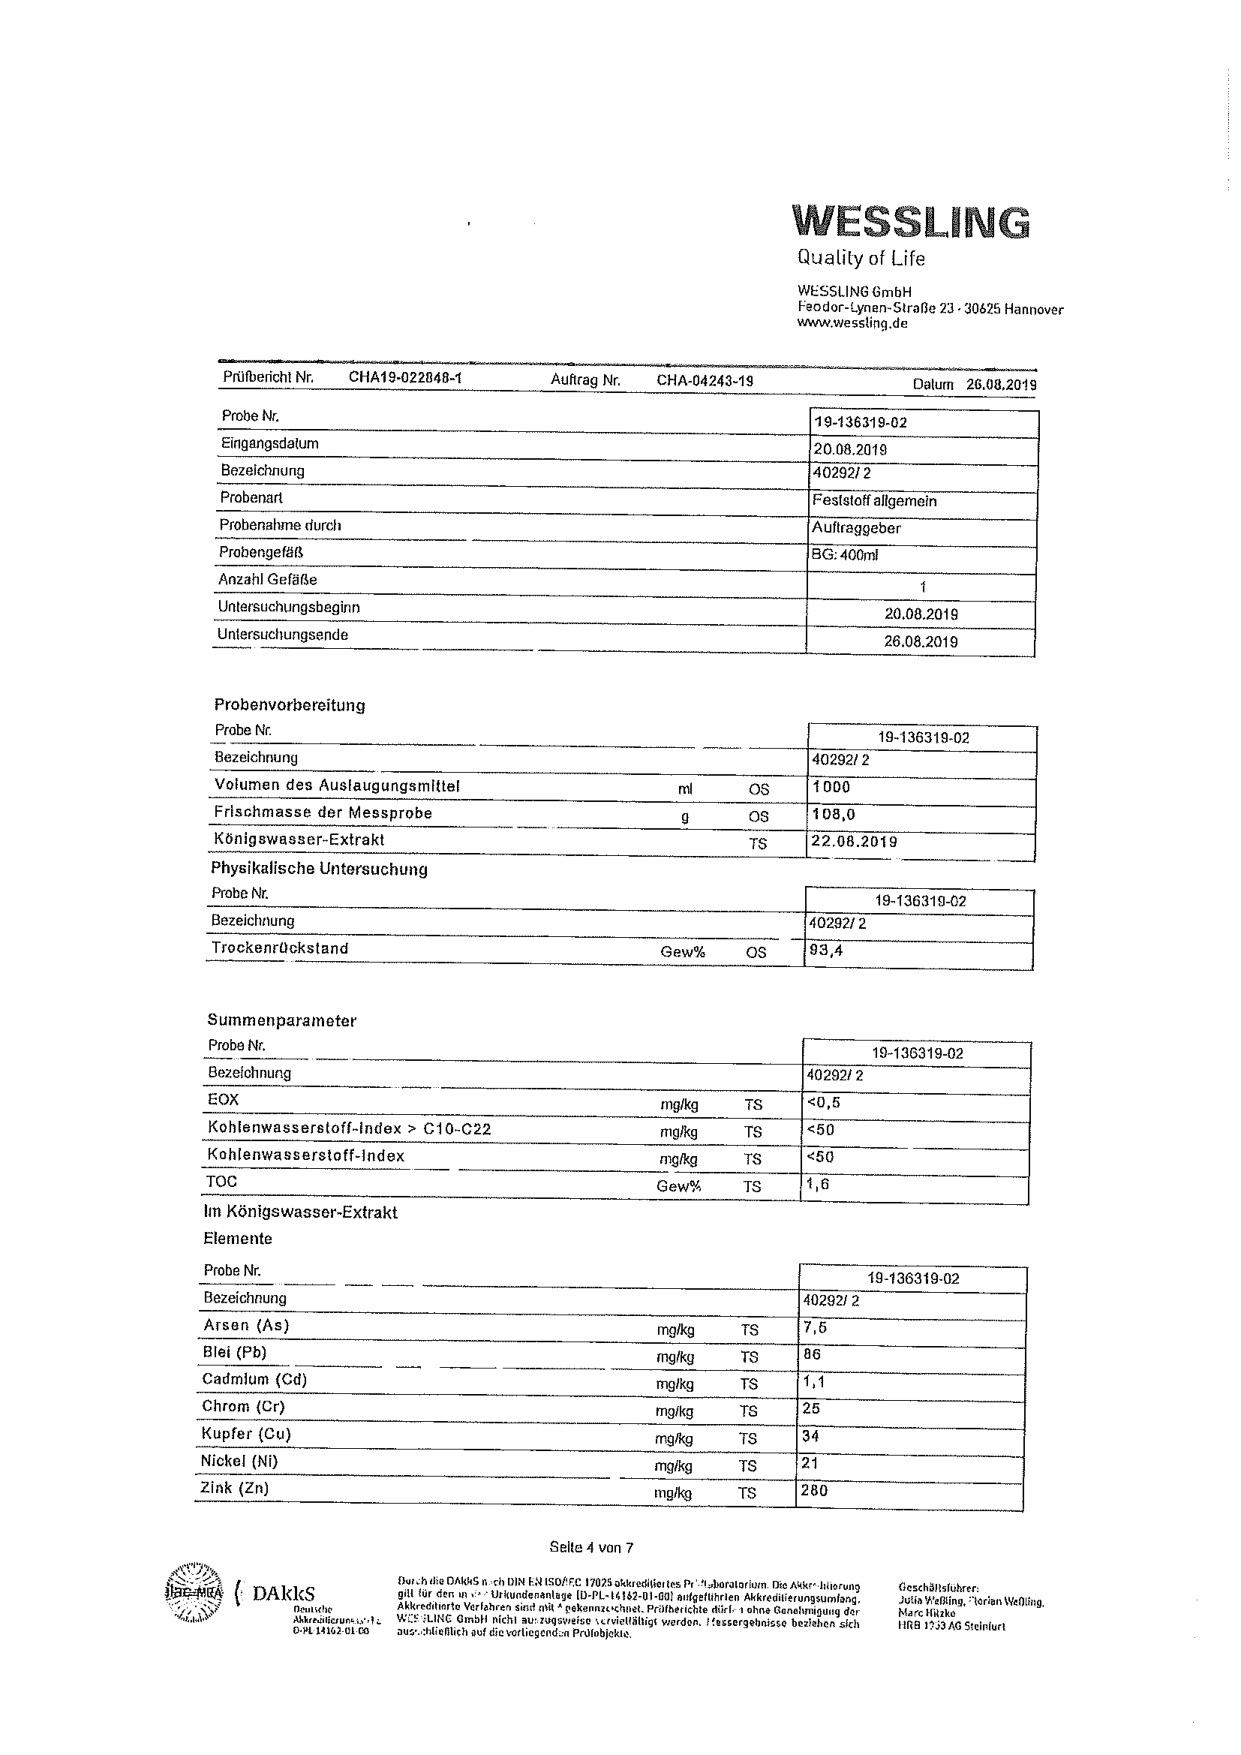table: (188, 692, 1083, 986), (195, 399, 1073, 670), (180, 1253, 1042, 1517), (185, 1004, 1048, 1215)
